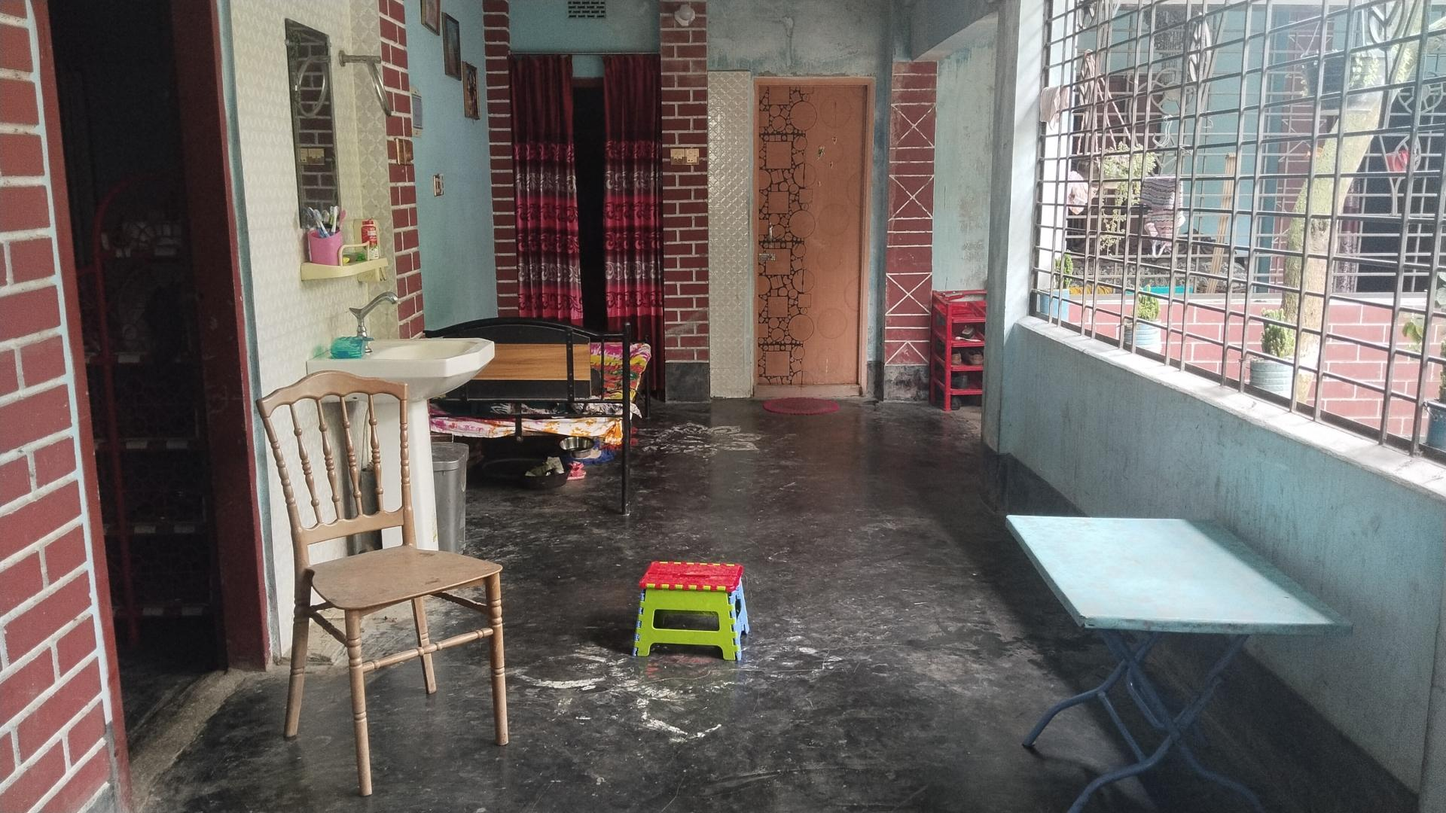Chair: (259, 367, 510, 769)
Door: (749, 84, 862, 396)
Stool: (633, 561, 755, 656)
Table: (1000, 513, 1351, 813)
